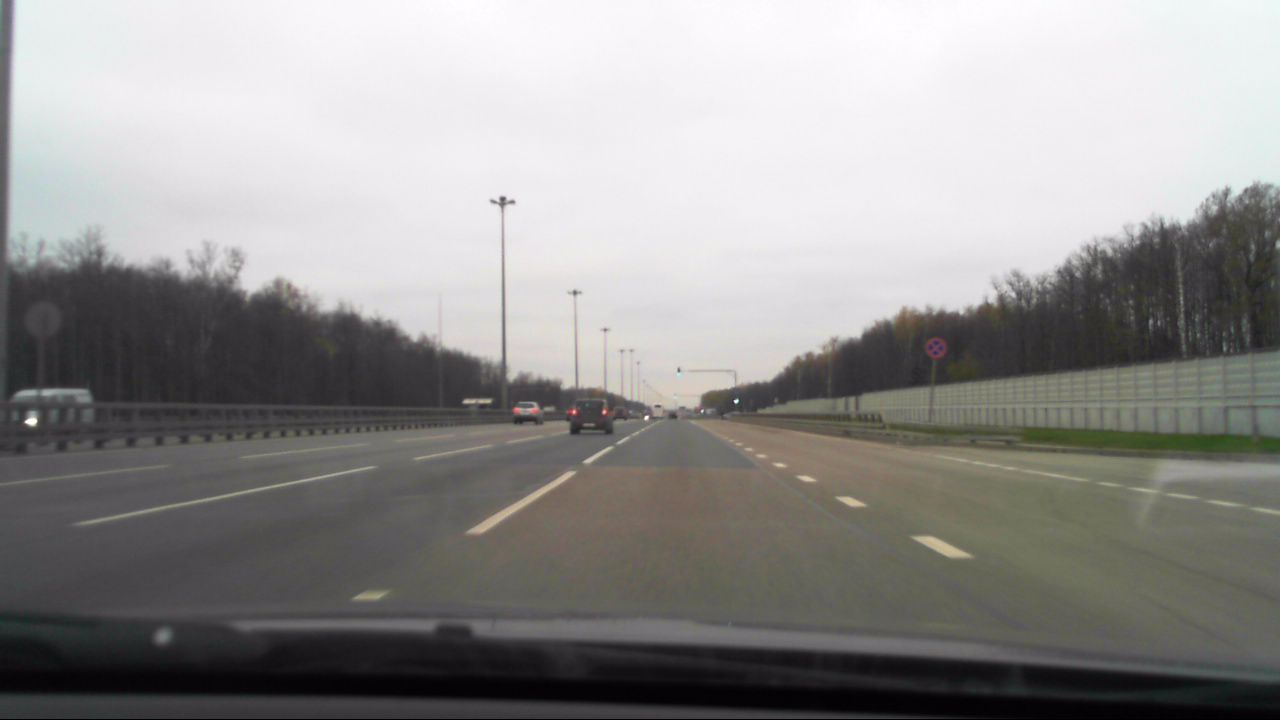No Parking: (925, 336, 947, 358)
